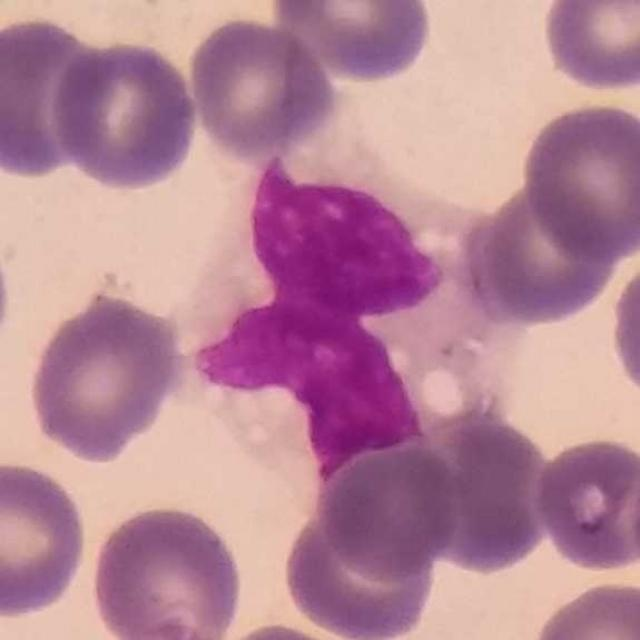Monocyte: (172, 151, 523, 462)
RBC: (22, 287, 187, 465), (47, 36, 201, 194), (460, 182, 623, 328), (184, 12, 340, 159), (278, 503, 441, 640), (87, 500, 246, 640), (423, 416, 559, 578), (313, 440, 464, 580), (519, 97, 639, 263), (0, 12, 111, 182), (531, 433, 640, 577), (0, 456, 91, 622), (268, 0, 435, 85), (537, 0, 640, 95), (527, 576, 640, 640), (605, 243, 640, 410), (200, 619, 367, 640), (625, 437, 640, 589)
